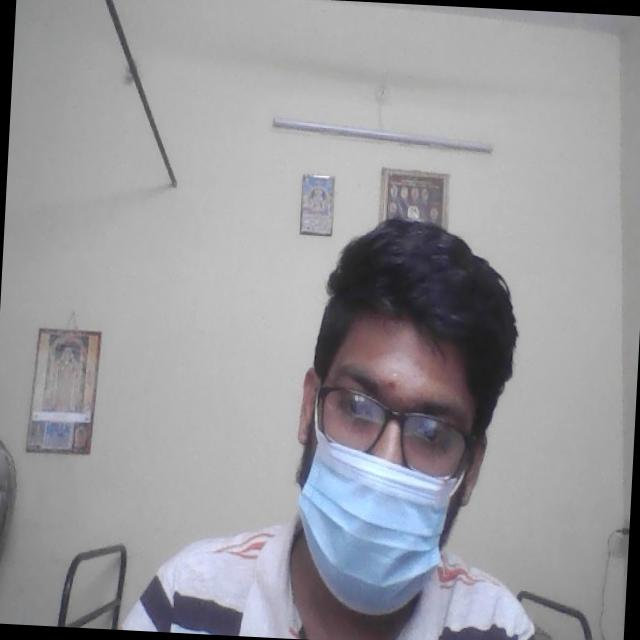Focused: (297, 330, 476, 593)
